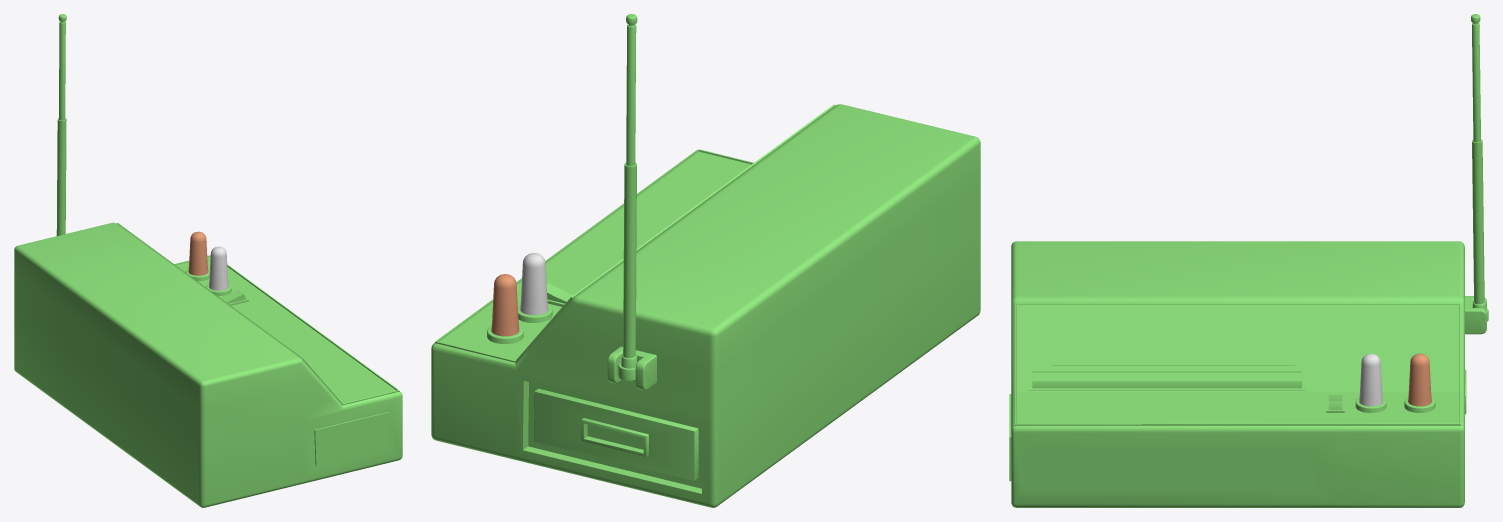
The model's file is FAX 1.fbx.
3 renders of one model, left to right at view 1: azimuth 30°, elevation 25°; view 2: azimuth 150°, elevation 25°; view 3: azimuth 270°, elevation 25°, orthographic. The views are drawn at different scales.
Visible parts, largest first — view 1: NurbsPath.007, Cylinder.018; view 2: NurbsPath.007, Cylinder.018; view 3: NurbsPath.007, Cylinder.018.
Part boxes in pixels (bbox=[...]): NurbsPath.007: bbox=[14, 222, 402, 507]; Cylinder.018: bbox=[56, 14, 66, 235]; NurbsPath.007: bbox=[431, 104, 980, 507]; Cylinder.018: bbox=[617, 14, 637, 380]; NurbsPath.007: bbox=[1009, 241, 1486, 507]; Cylinder.018: bbox=[1471, 14, 1488, 321].
Size of the model in its own units: 46.49 by 74.67 by 79.51.
